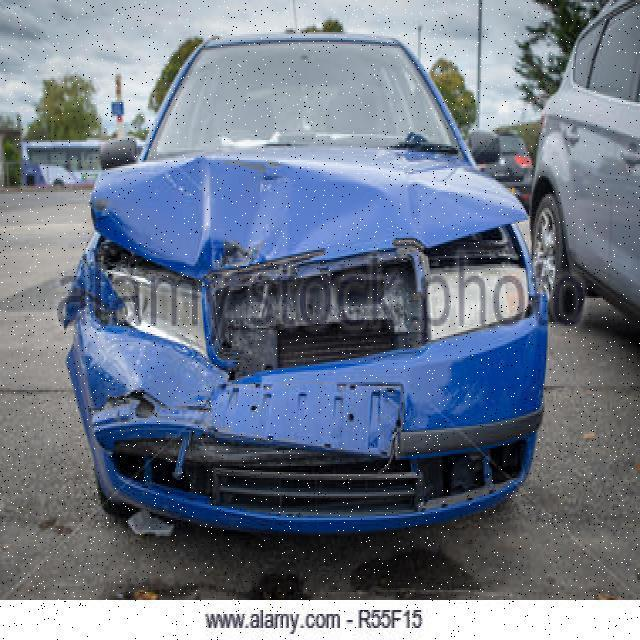bonnet-dent: (86, 162, 524, 278)
front-bumper-dent: (56, 328, 530, 502)
